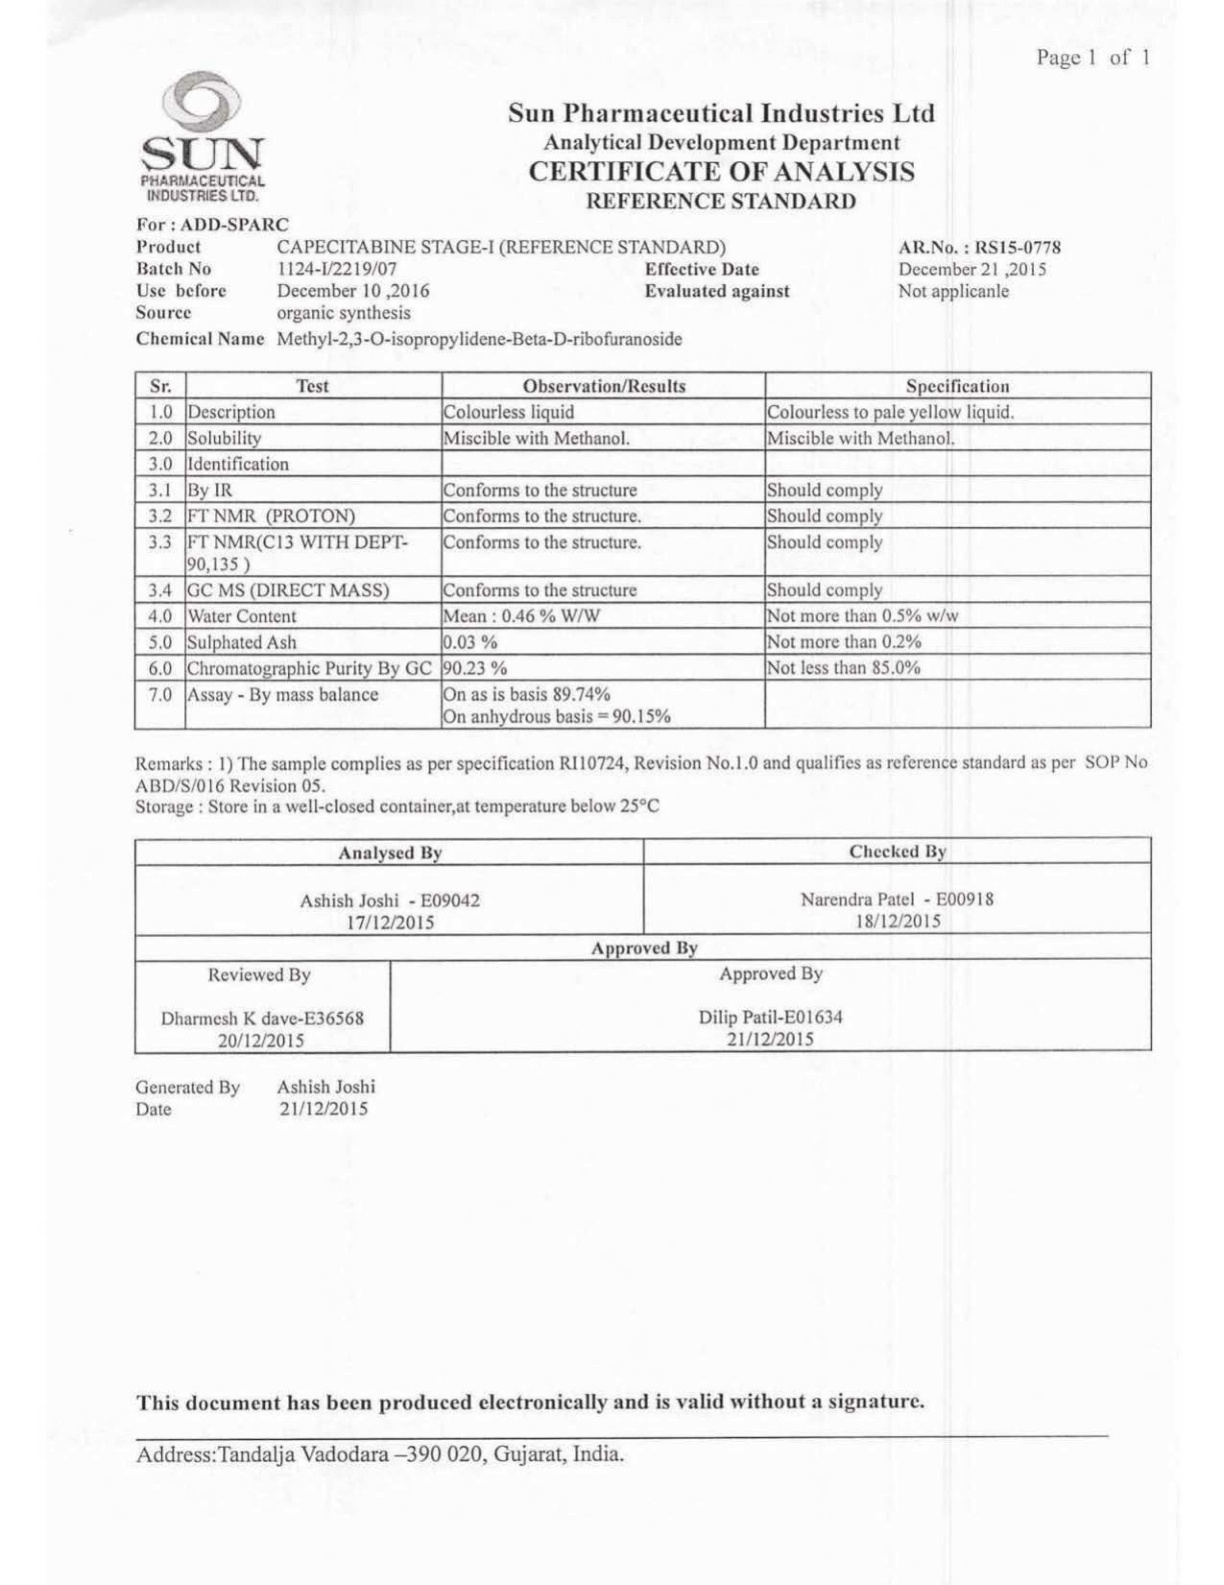full_lined: (132, 370, 1155, 731)
merged_cells: (132, 837, 1155, 1055)
